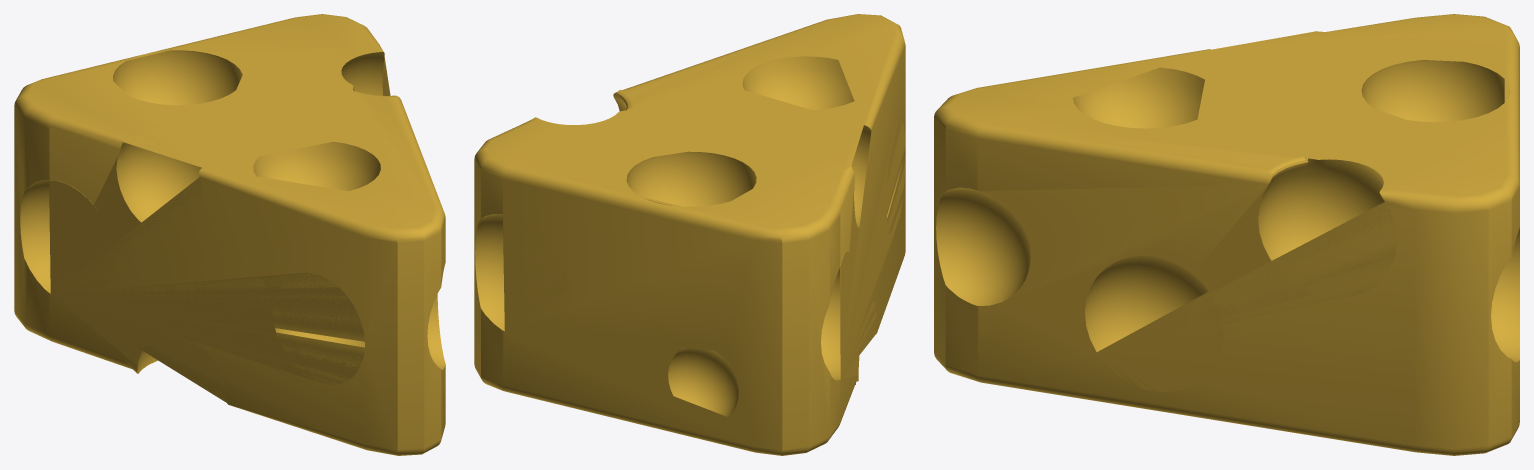
File: cheese.fbx
The picture shows the model from 3 angles, left to right: view 1: azimuth 30°, elevation 25°; view 2: azimuth 150°, elevation 25°; view 3: azimuth 270°, elevation 25°; orthographic projection. The views are drawn at different scales.
Parts seen in each view (by area): view 1: Plane; view 2: Plane; view 3: Plane.
Part boxes in pixels (box(x1,y1,x2,y2)): Plane: box(14, 14, 445, 455); Plane: box(474, 14, 905, 455); Plane: box(934, 14, 1519, 455).
Size of the model in its own units: 140 by 87.99 by 181.
